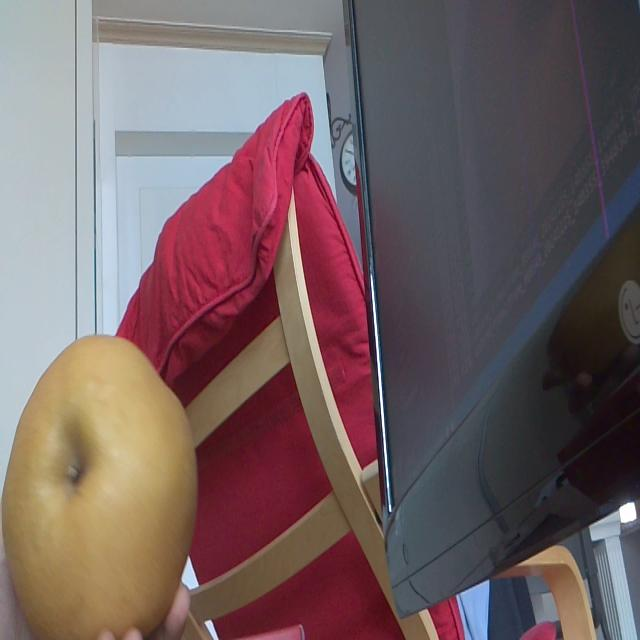pear: (4, 335, 198, 640)
